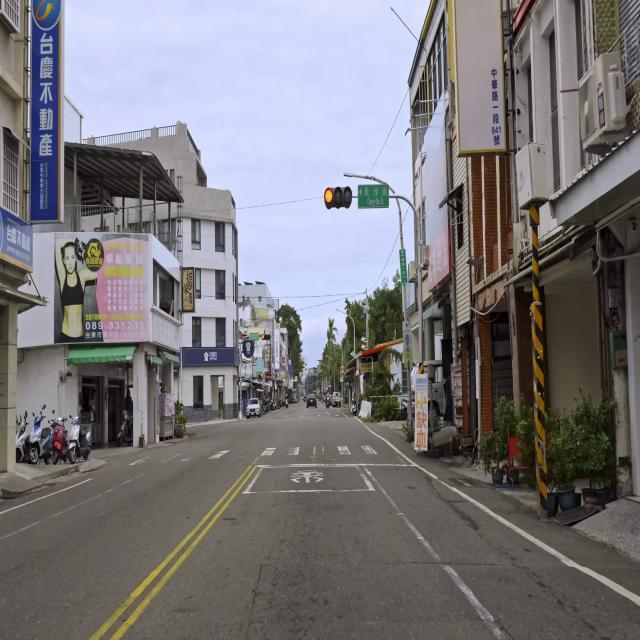red light: (324, 186, 354, 208), (262, 334, 270, 340)
